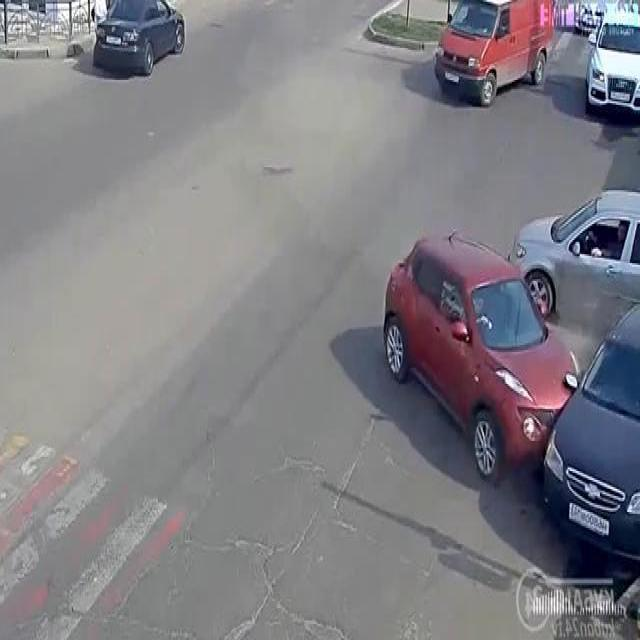accident: (375, 226, 639, 594)
